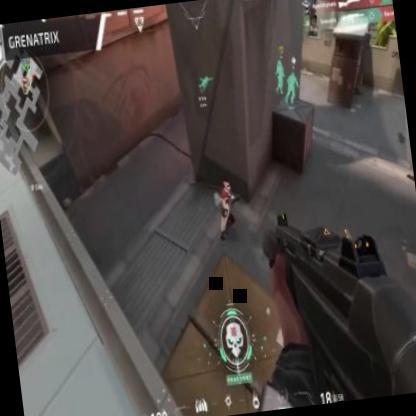enemy: (213, 181, 238, 242)
enemy_head: (223, 180, 230, 192)
